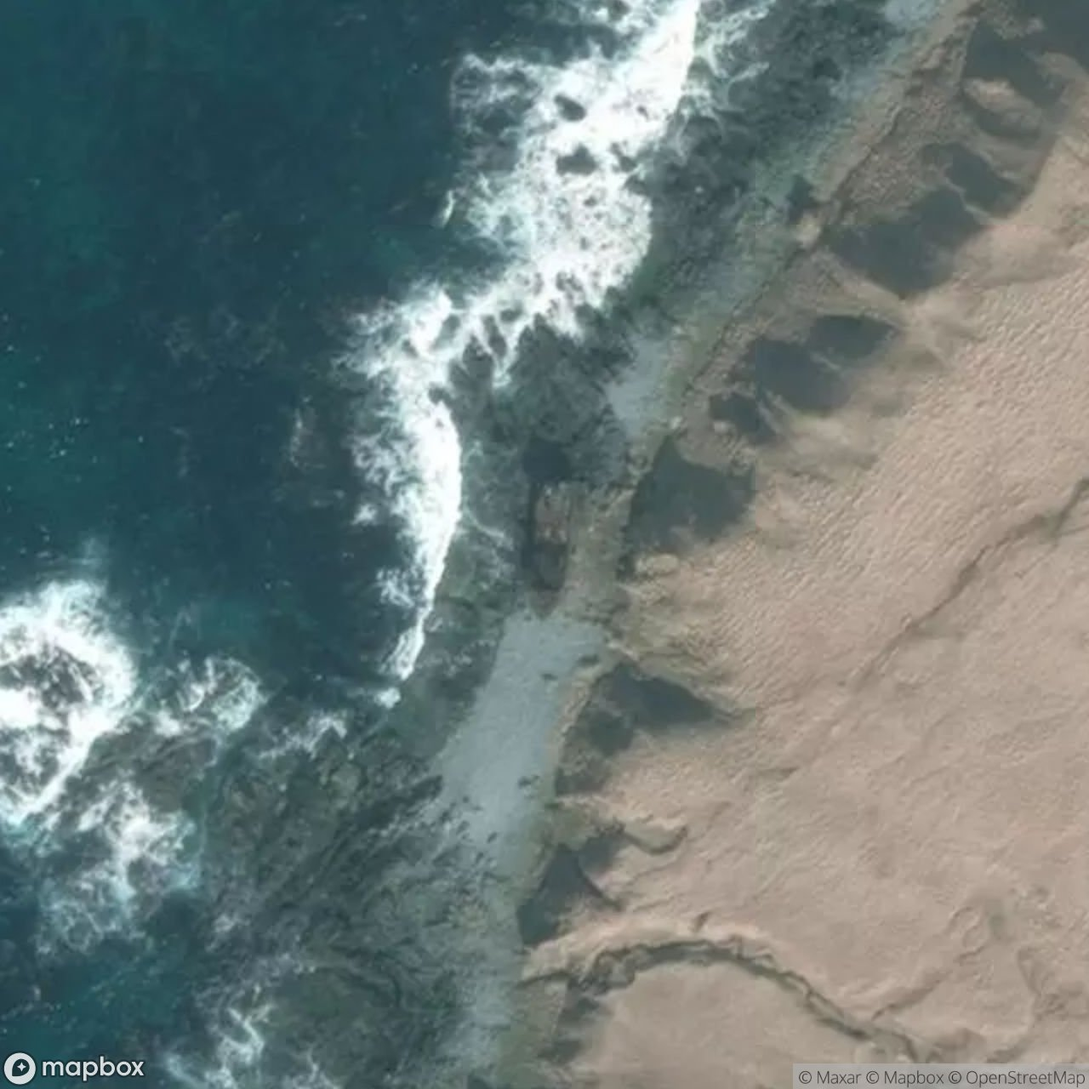Wreck: (509, 465, 589, 652)
